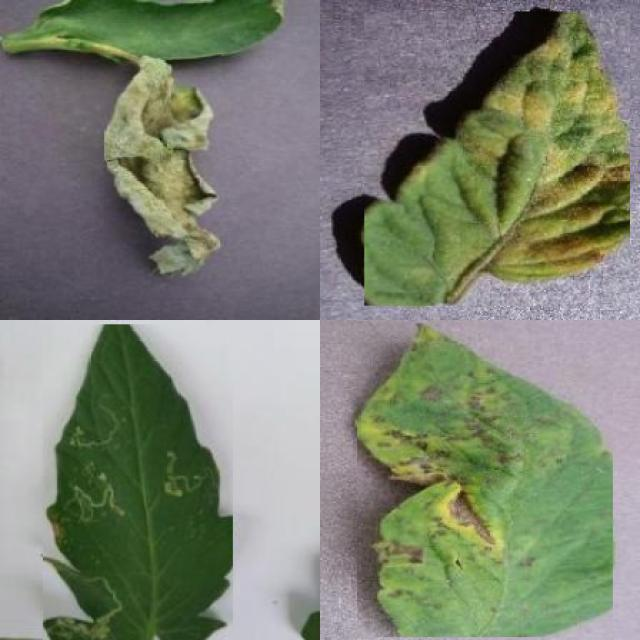Late Blight: (105, 54, 222, 286)
Leaf Miner: (43, 324, 233, 640)
Leaf Mold: (364, 11, 630, 306)
Septoria: (357, 323, 613, 637)
